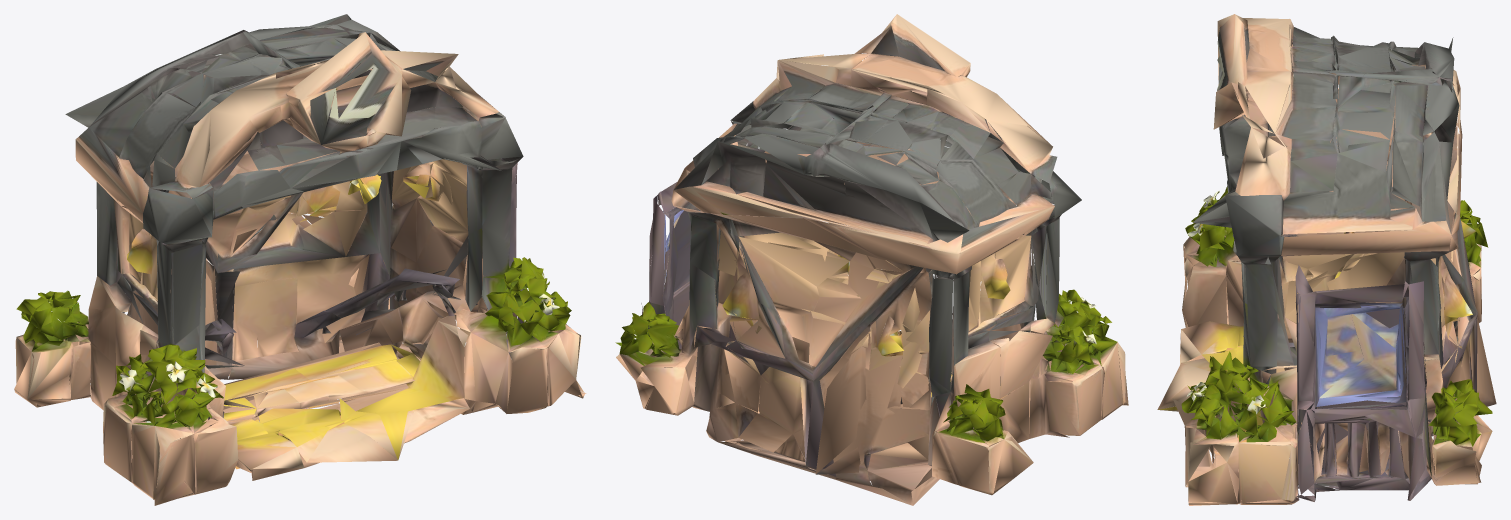
The model's file is M-10_01_subway.glb.
3 renders of one model, left to right at view 1: azimuth 30°, elevation 25°; view 2: azimuth 150°, elevation 25°; view 3: azimuth 270°, elevation 25°, orthographic. The views are drawn at different scales.
Visible parts, largest first — view 1: subway; view 2: subway; view 3: subway.
Part boxes in pixels (bbox=[...]): subway: bbox=[14, 14, 586, 505]; subway: bbox=[615, 14, 1128, 505]; subway: bbox=[1157, 14, 1496, 505].
Bounding box in the file's own units: 5.02 × 4.6 × 3.23.
3 materials, 3 textured.
